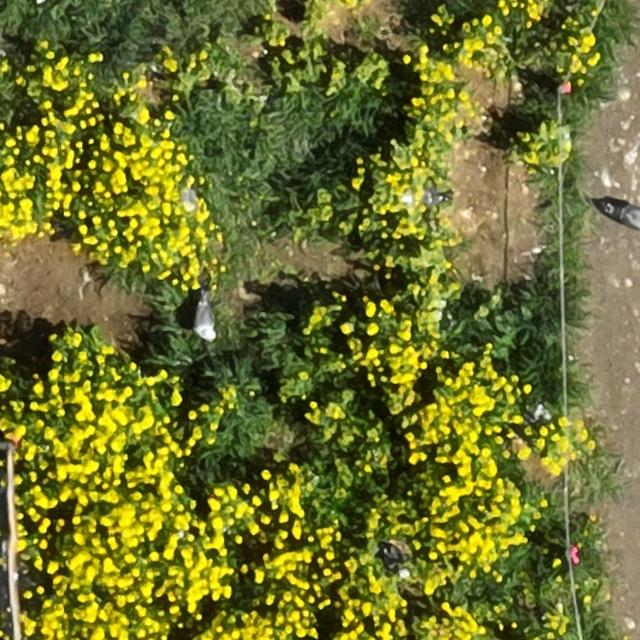umineko: (195, 297, 215, 340), (608, 206, 638, 228)
